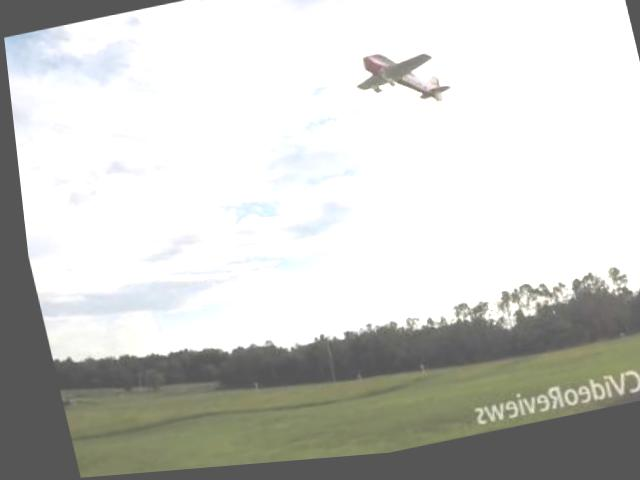uav: (335, 29, 462, 138)
